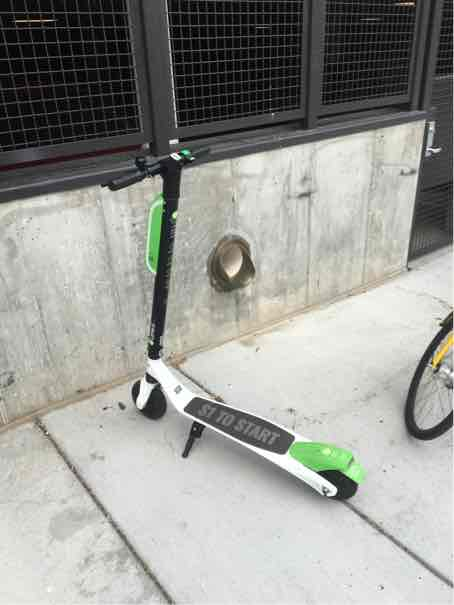scooter: (99, 127, 364, 511)
